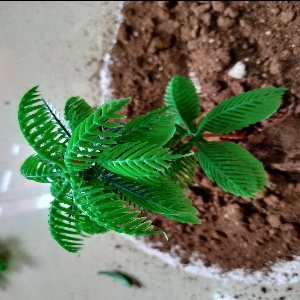plant: (13, 73, 284, 231)
plantd: (8, 74, 267, 242)
